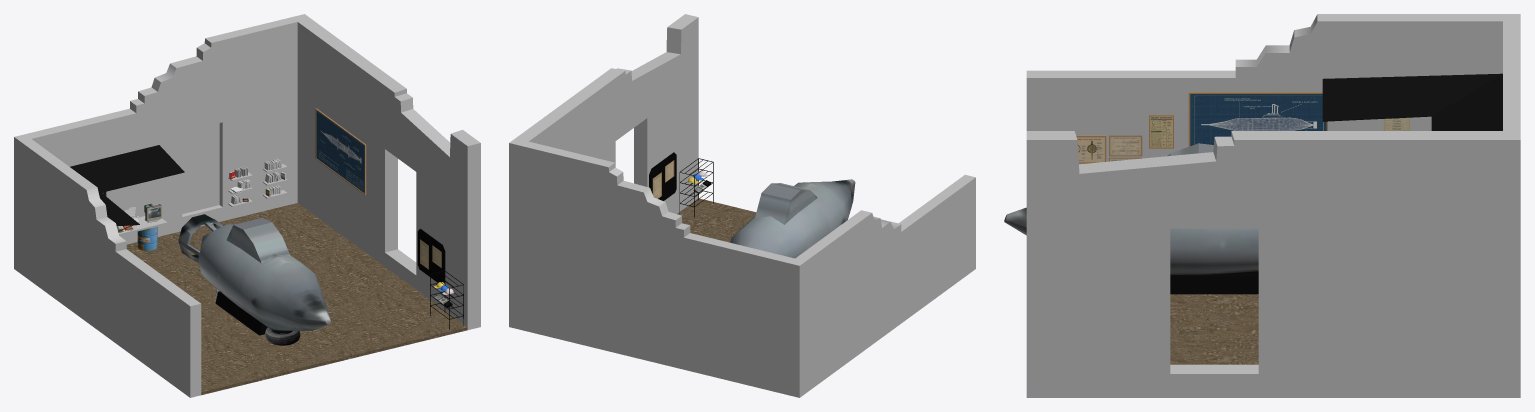
Rendered from room.fbx.
3 views of the same model, side by side, from view 1: azimuth 30°, elevation 25°; view 2: azimuth 150°, elevation 25°; view 3: azimuth 270°, elevation 25° (orthographic). The views are drawn at different scales.
Visible parts, largest first — view 1: Wall, Plane, submarine_big, Plane.006, Cube.004, Cube.013, Cube, Cube.006, tyre.002, barrel.002; view 2: Wall, submarine_big, Plane, Cube.013, Cube.006; view 3: Wall, Plane.006, Plane, Cube.005, submarine_big, Cube.015, Cube.010, Cube.008, Cube.007.
Part boxes in pixels (x1,y1,x2,y2): Wall: [14, 14, 480, 397]; Plane: [126, 203, 467, 395]; submarine_big: [178, 214, 330, 330]; Plane.006: [70, 145, 184, 226]; Cube.004: [315, 108, 366, 195]; Cube.013: [417, 228, 445, 283]; Cube: [215, 291, 267, 335]; Cube.006: [430, 270, 463, 329]; tyre.002: [265, 327, 300, 345]; barrel.002: [137, 226, 157, 250]; Wall: [509, 14, 975, 397]; submarine_big: [730, 179, 855, 258]; Plane: [677, 198, 756, 242]; Cube.013: [649, 152, 676, 200]; Cube.006: [679, 158, 713, 217]; Wall: [1026, 14, 1520, 397]; Plane.006: [1322, 73, 1502, 130]; Plane: [1170, 294, 1258, 364]; Cube.005: [1188, 92, 1327, 146]; submarine_big: [1004, 143, 1258, 274]; Cube.015: [1170, 273, 1258, 294]; Cube.010: [1149, 115, 1173, 148]; Cube.008: [1076, 135, 1106, 163]; Cube.007: [1109, 135, 1142, 156].
Bounding box in the file's own units: 976 × 591 × 1072.
